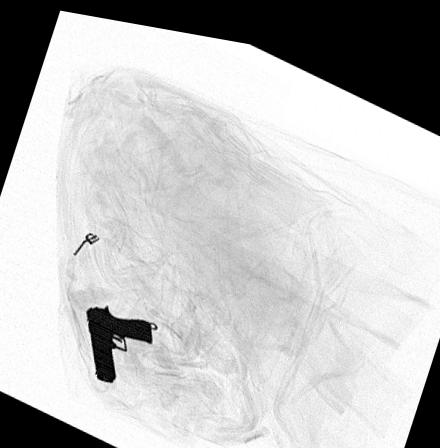Gun: (86, 301, 150, 377)
